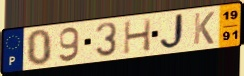0: (23, 28, 54, 67)
3: (95, 21, 118, 58)
9: (58, 25, 80, 64)
H: (122, 17, 154, 56)
J: (159, 12, 188, 52)
K: (192, 10, 216, 46)
